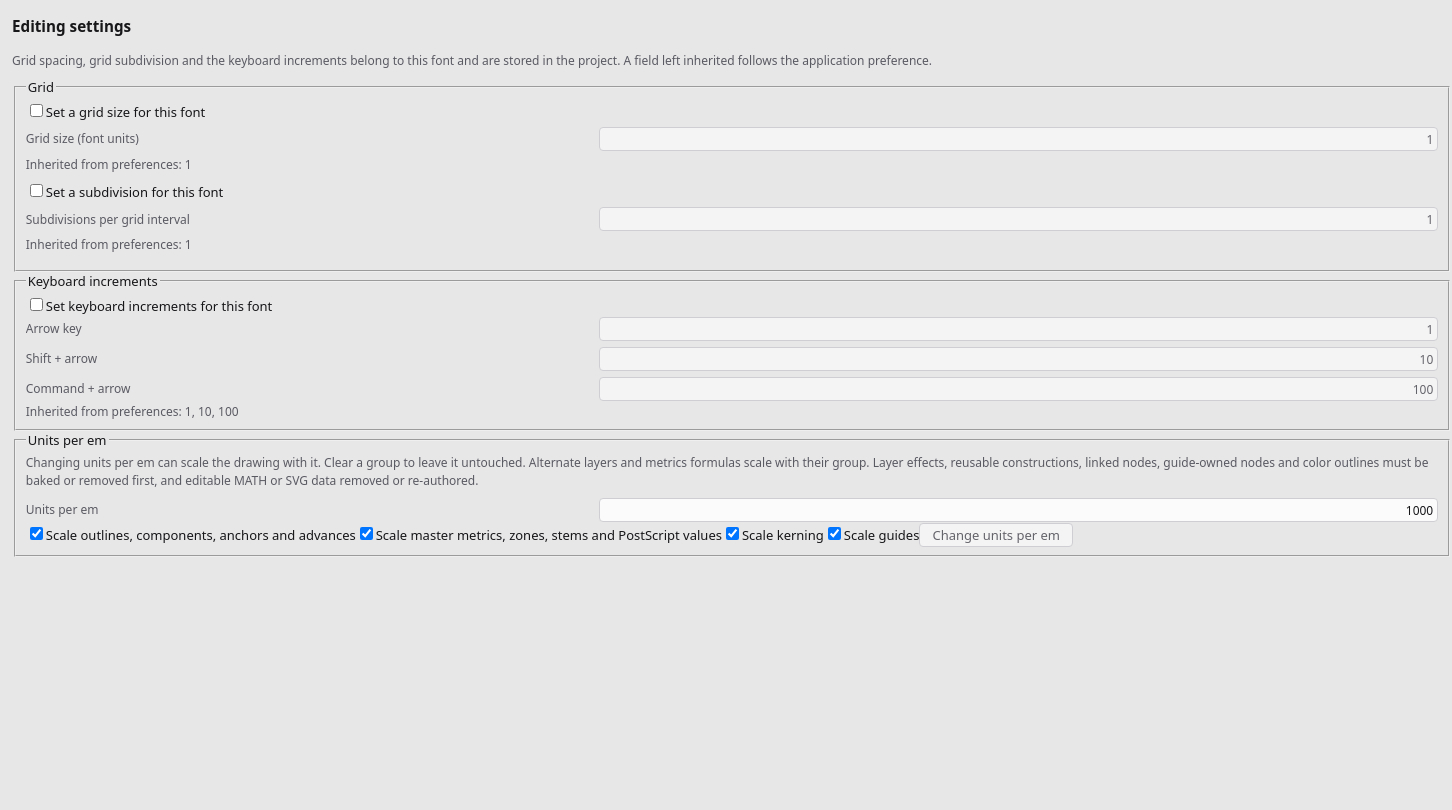
it: reports a rejected setting instead of showing it as stored
Click the checkbox labelled "Set a subdivision for this font".
click(36, 191)  # box [30,184,43,198]
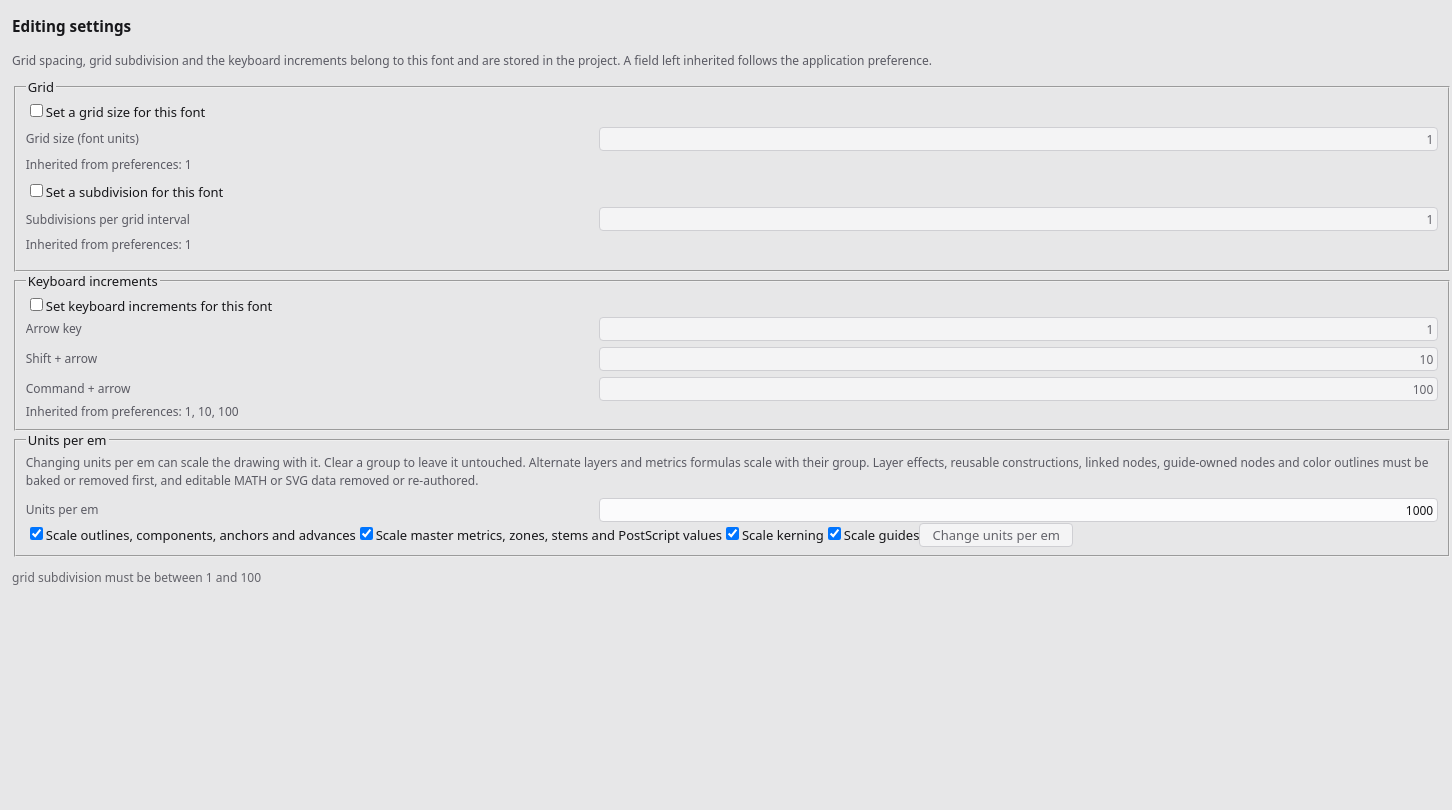
expect the message shows "between 1 and 100": met, box [12,569,261,586]
